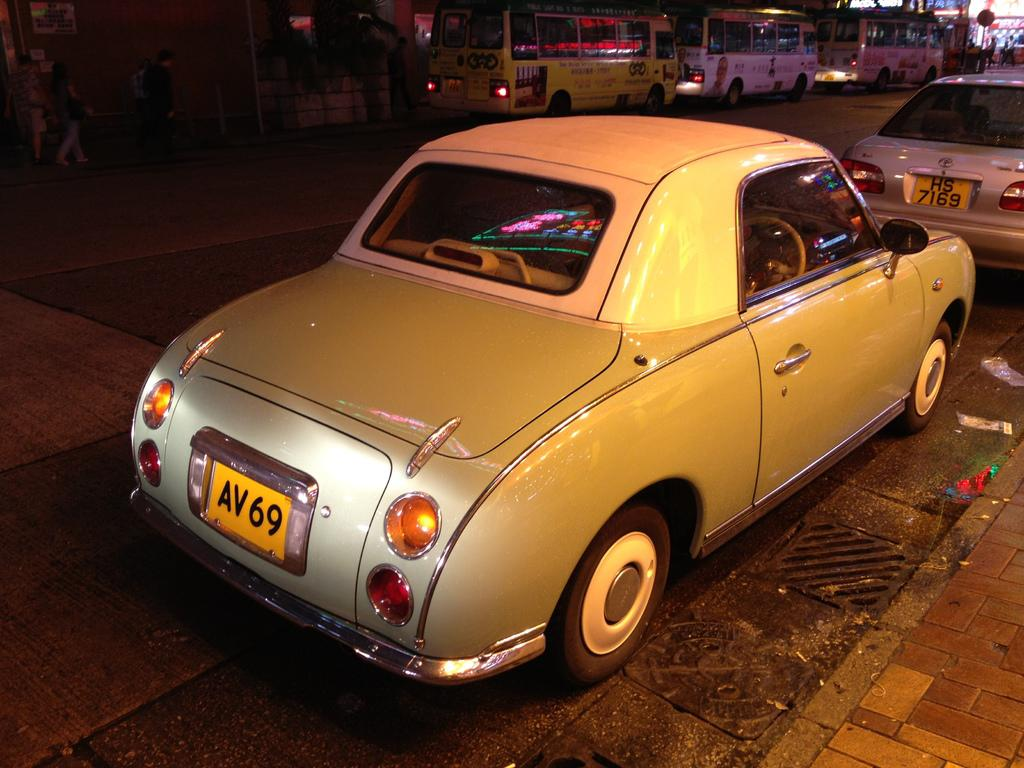taxi: (127, 114, 979, 689), (845, 70, 1024, 273)
